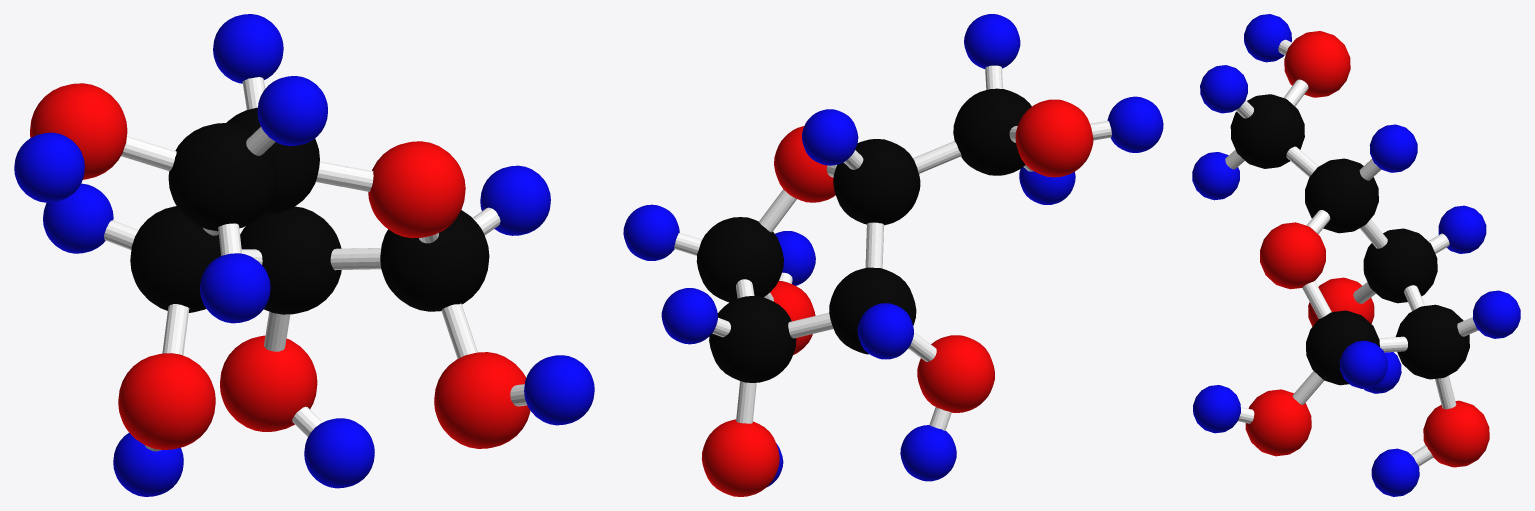
Rendered from ribose.obj.
The picture shows the model from 3 angles, left to right: view 1: azimuth 30°, elevation 25°; view 2: azimuth 150°, elevation 25°; view 3: azimuth 270°, elevation 25°; orthographic projection. The views are drawn at different scales.
Visible parts, largest first — view 1: carbono.001_Shape_Sphere.005, carbono.002_Shape_Sphere.002, oxigenio.004_Shape_Sphere.012, oxigenio.002_Shape_Sphere.001, carbono_Shape_Sphere.007, oxigenio_Shape_Sphere.018, oxigenio.003_Shape_Sphere.015, carbono.004_Shape_Sphere.003, oxigenio.001_Shape_Sphere.008, Shape_Sphere.008_Shape_Sphere.009, hidrogenio.004_Shape_Sphere.011, hidrogenio.003_Shape_Sphere.016 (+8 smaller); view 2: carbono.003_Shape_Sphere.004, carbono_Shape_Sphere.007, carbono.002_Shape_Sphere.002, carbono.001_Shape_Sphere.005, oxigenio.001_Shape_Sphere.008, oxigenio.003_Shape_Sphere.015, oxigenio.004_Shape_Sphere.012, carbono.004_Shape_Sphere.003, oxigenio.002_Shape_Sphere.001, Shape_Sphere.005_Shape_Sphere.006, hidrogenio.002_Shape_Sphere.014, hidrogenio.006_Shape_Sphere.017 (+7 smaller); view 3: carbono_Shape_Sphere.007, carbono.001_Shape_Sphere.005, carbono.003_Shape_Sphere.004, carbono.004_Shape_Sphere.003, oxigenio.002_Shape_Sphere.001, oxigenio.003_Shape_Sphere.015, oxigenio.001_Shape_Sphere.008, oxigenio_Shape_Sphere.018, carbono.002_Shape_Sphere.002, hidrogenio.003_Shape_Sphere.016, hidrogenio_Shape_Sphere, hidrogenio.006_Shape_Sphere.017 (+8 smaller).
Part boxes in pixels (left/top/right/bottom): carbono.001_Shape_Sphere.005: left=168, top=123, right=277, bottom=231; carbono.002_Shape_Sphere.002: left=380, top=210, right=489, bottom=311; oxigenio.004_Shape_Sphere.012: left=118, top=353, right=215, bottom=449; oxigenio.002_Shape_Sphere.001: left=368, top=141, right=465, bottom=238; carbono_Shape_Sphere.007: left=240, top=206, right=341, bottom=314; oxigenio_Shape_Sphere.018: left=434, top=352, right=530, bottom=448; oxigenio.003_Shape_Sphere.015: left=220, top=335, right=317, bottom=431; carbono.004_Shape_Sphere.003: left=130, top=206, right=220, bottom=312; oxigenio.001_Shape_Sphere.008: left=30, top=83, right=127, bottom=179; Shape_Sphere.008_Shape_Sphere.009: left=14, top=132, right=84, bottom=202; hidrogenio.004_Shape_Sphere.011: left=200, top=253, right=270, bottom=323; hidrogenio.003_Shape_Sphere.016: left=304, top=418, right=374, bottom=488; carbono.003_Shape_Sphere.004: left=833, top=139, right=920, bottom=225; carbono_Shape_Sphere.007: left=709, top=296, right=796, bottom=382; carbono.002_Shape_Sphere.002: left=696, top=217, right=783, bottom=302; carbono.001_Shape_Sphere.005: left=953, top=88, right=1031, bottom=175; oxigenio.001_Shape_Sphere.008: left=1015, top=99, right=1093, bottom=177; oxigenio.003_Shape_Sphere.015: left=701, top=419, right=779, bottom=496; oxigenio.004_Shape_Sphere.012: left=917, top=335, right=994, bottom=412; carbono.004_Shape_Sphere.003: left=829, top=267, right=916, bottom=354; oxigenio.002_Shape_Sphere.001: left=774, top=126, right=835, bottom=202; Shape_Sphere.005_Shape_Sphere.006: left=802, top=109, right=858, bottom=165; hidrogenio.002_Shape_Sphere.014: left=857, top=303, right=913, bottom=359; hidrogenio.006_Shape_Sphere.017: left=661, top=288, right=717, bottom=344; carbono_Shape_Sphere.007: left=1395, top=304, right=1469, bottom=379; carbono.001_Shape_Sphere.005: left=1230, top=94, right=1304, bottom=168; carbono.003_Shape_Sphere.004: left=1305, top=158, right=1378, bottom=233; carbono.004_Shape_Sphere.003: left=1363, top=228, right=1437, bottom=303; oxigenio.002_Shape_Sphere.001: left=1260, top=222, right=1325, bottom=289; oxigenio.003_Shape_Sphere.015: left=1423, top=400, right=1489, bottom=467; oxigenio.001_Shape_Sphere.008: left=1284, top=31, right=1350, bottom=97; oxigenio_Shape_Sphere.018: left=1245, top=389, right=1311, bottom=456; carbono.002_Shape_Sphere.002: left=1306, top=310, right=1379, bottom=385; hidrogenio.003_Shape_Sphere.016: left=1371, top=448, right=1419, bottom=496; hidrogenio_Shape_Sphere: left=1339, top=340, right=1387, bottom=388; hidrogenio.006_Shape_Sphere.017: left=1473, top=290, right=1520, bottom=338.
Bounding box in the file's own units: 6.42 × 5.55 × 4.47.
